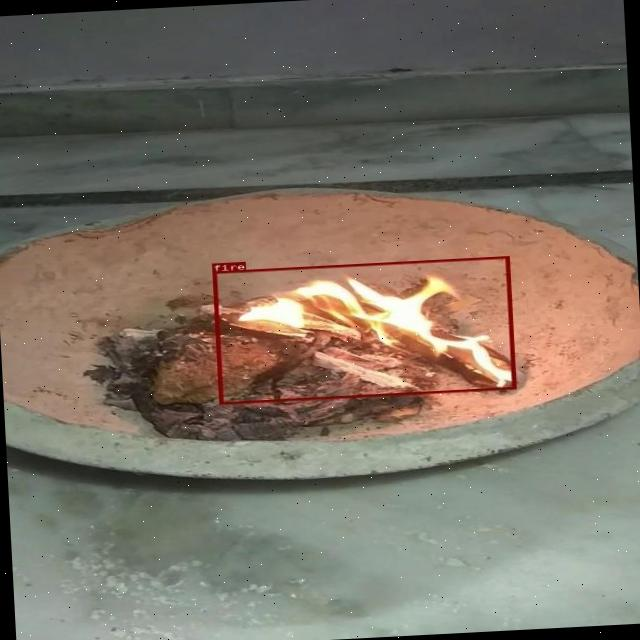fire: (212, 256, 515, 403)
